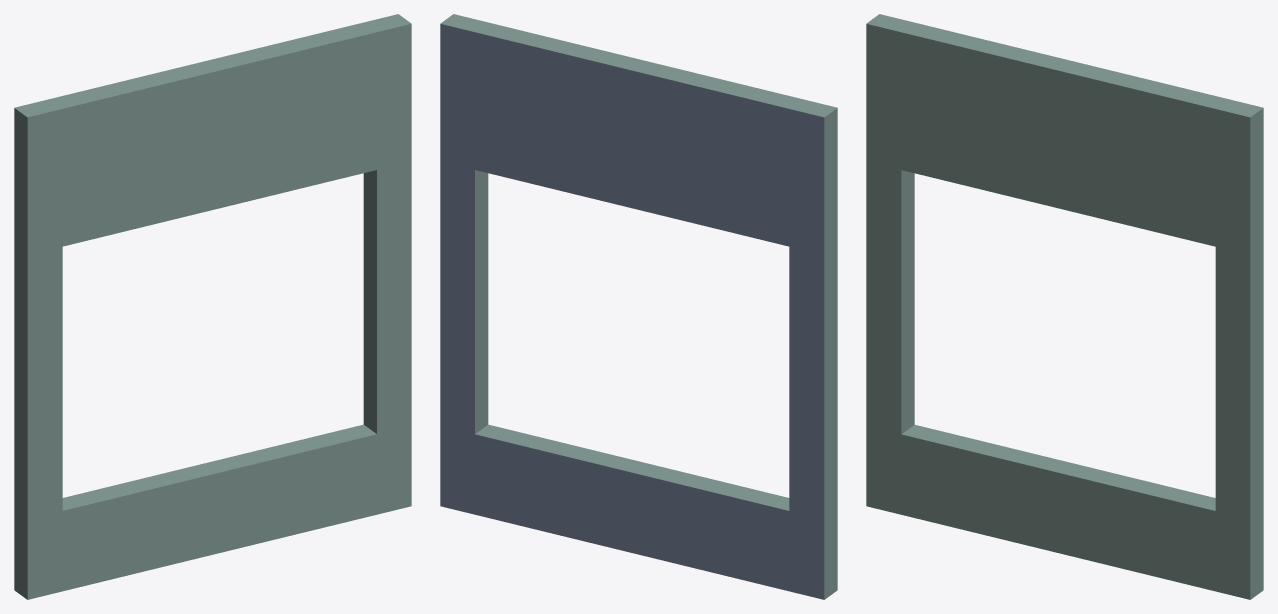
The model's file is Wall3_C5_05.fbx.
3 views of the same model, side by side, from view 1: azimuth 30°, elevation 25°; view 2: azimuth 150°, elevation 25°; view 3: azimuth 330°, elevation 25° (orthographic).
Parts seen in each view (by area): view 1: Wall3_C5_05; view 2: Wall3_C5_05; view 3: Wall3_C5_05.
Part boxes in pixels (x1,y1,x2,y2): Wall3_C5_05: (14, 14, 411, 599); Wall3_C5_05: (440, 14, 837, 599); Wall3_C5_05: (866, 14, 1263, 599).
Bounding box in the file's own units: 250 × 300 × 15.
